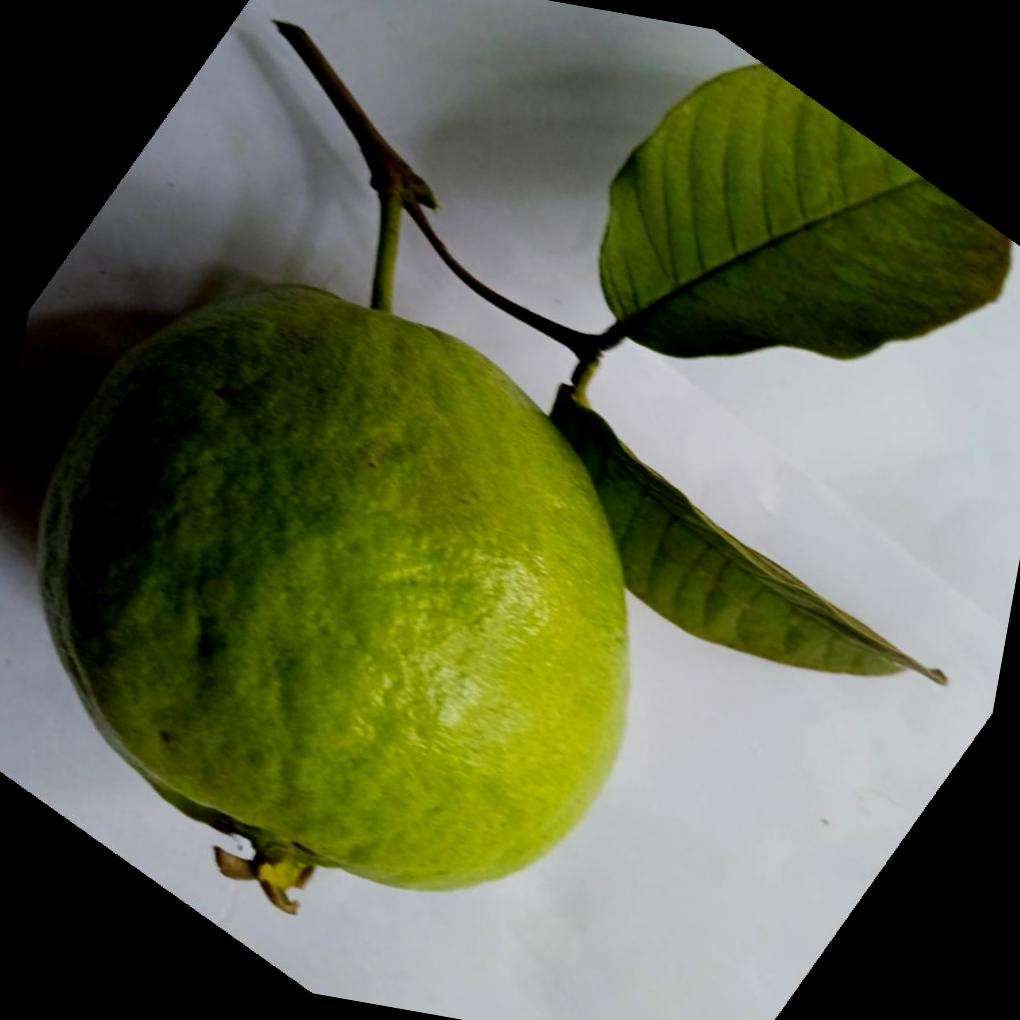FreshGuava: (33, 269, 633, 912)
